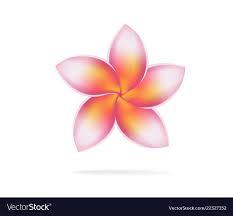frangipani: (54, 25, 190, 156)
